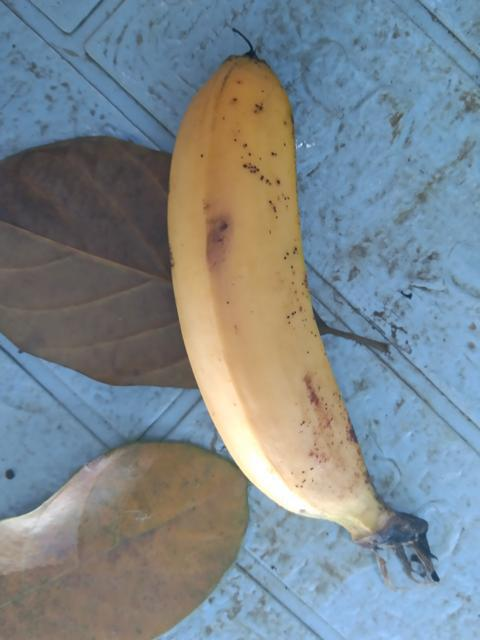ripe: (164, 50, 395, 566)
